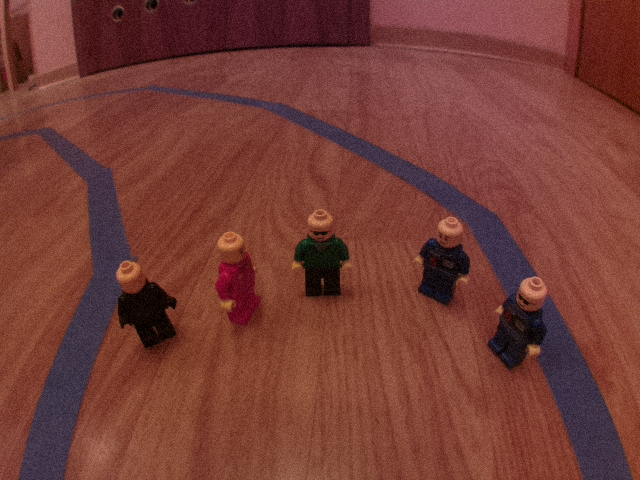LEGO_person: (486, 267, 550, 375), (113, 258, 180, 354), (290, 208, 355, 300), (412, 214, 473, 309), (212, 228, 265, 332)
